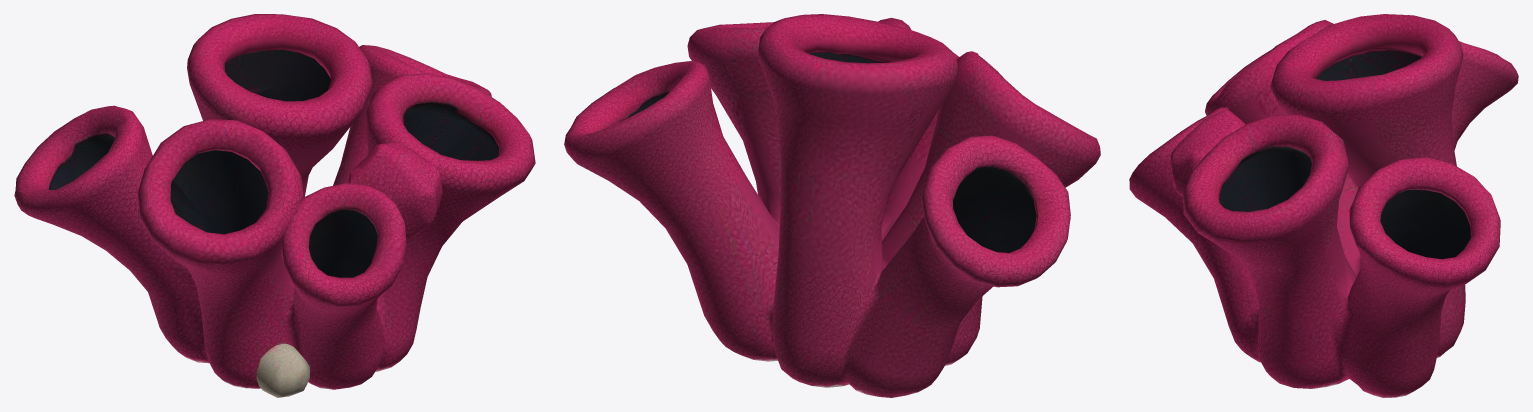
Rendered from coral-tubes.glb.
3 renders of one model, left to right at view 1: azimuth 30°, elevation 25°; view 2: azimuth 150°, elevation 25°; view 3: azimuth 270°, elevation 25°, orthographic. The views are drawn at different scales.
Bounding box in the file's own units: 0.9565 × 0.6206 × 0.7075.
1 material, 1 textured.
